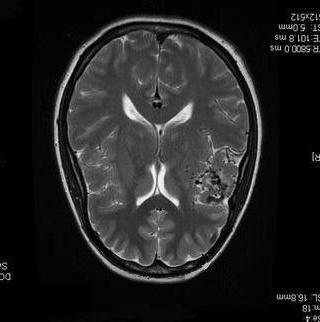Normal_Brain: (1, 1, 320, 322)
